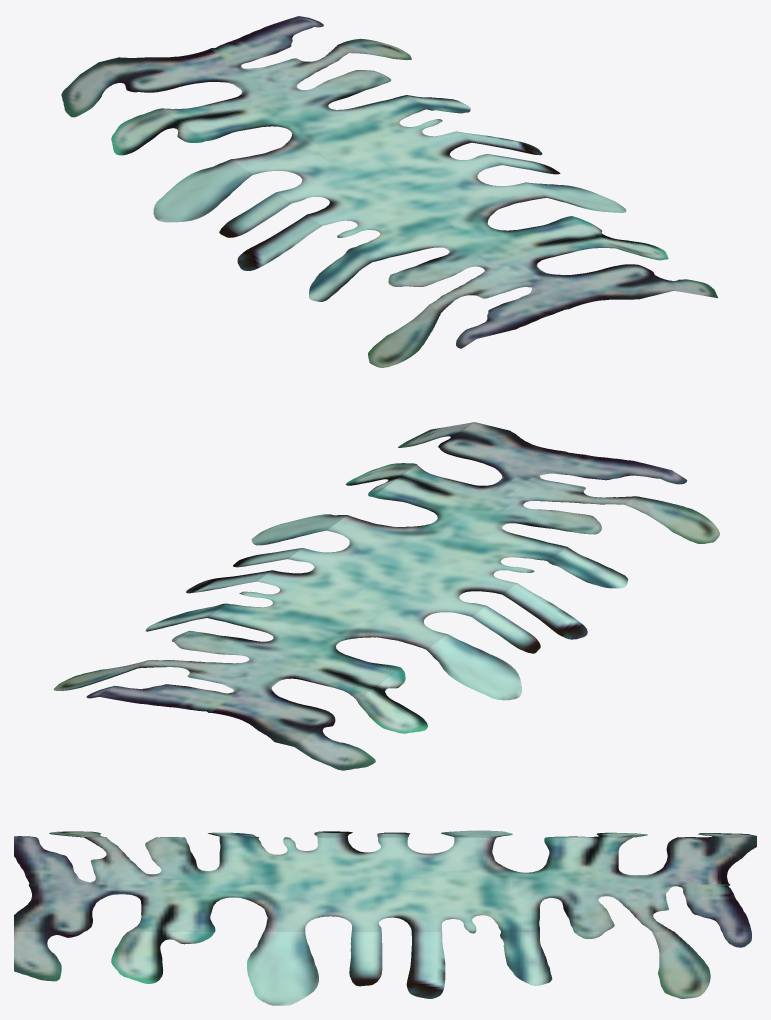
File: snot.FBX
The picture shows the model from 3 angles, top to bottom: view 1: azimuth 30°, elevation 25°; view 2: azimuth 150°, elevation 25°; view 3: azimuth 270°, elevation 25°; orthographic projection.
Visible parts, largest first — view 1: Plane001; view 2: Plane001; view 3: Plane001.
Boxes of the visible parts, <box> form: Plane001: <box>61,16,717,367</box>; Plane001: <box>53,422,719,770</box>; Plane001: <box>14,830,756,1005</box>.
Size of the model in its own units: 111 by 10 by 200.
1 material, 1 textured.
